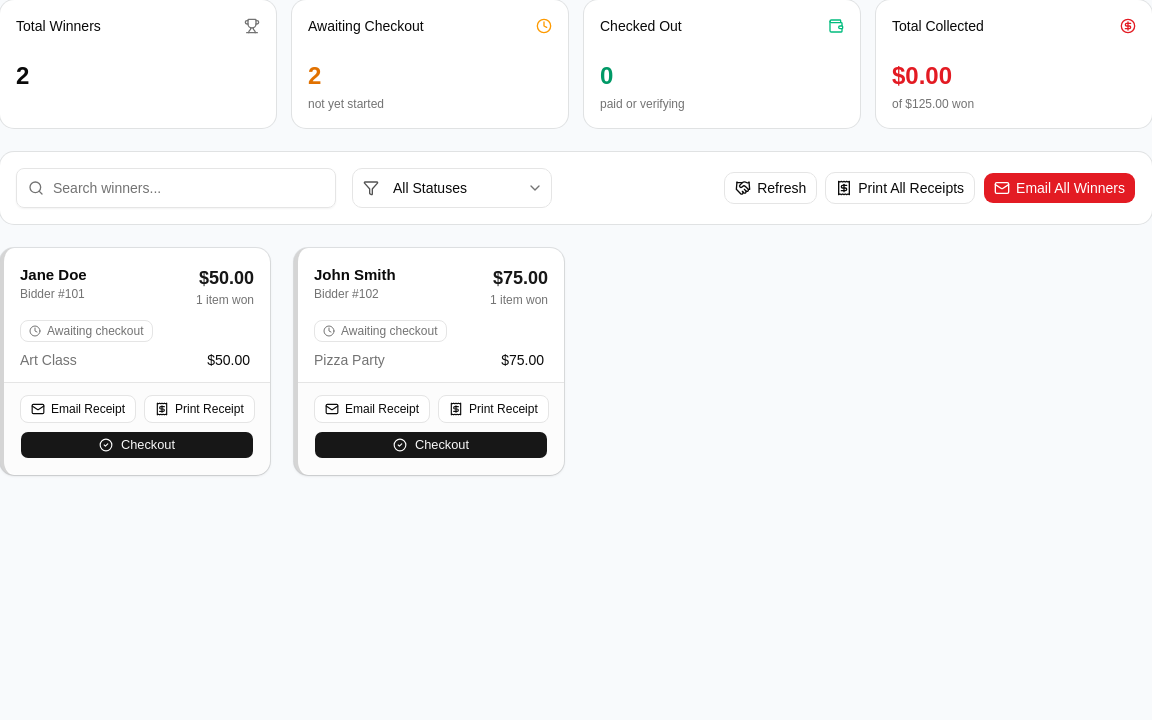
Test: Checkout › Mark paid / payment method dialog › shows Pending Verification (not Paid) when the server defers a credit-card checkout to the PayPal sweeper
Expected: the text "Jane Doe" is shown, [20, 264, 87, 286]
Click the button "Checkout" below "Art Class" at (137, 445), box [20, 431, 254, 459]
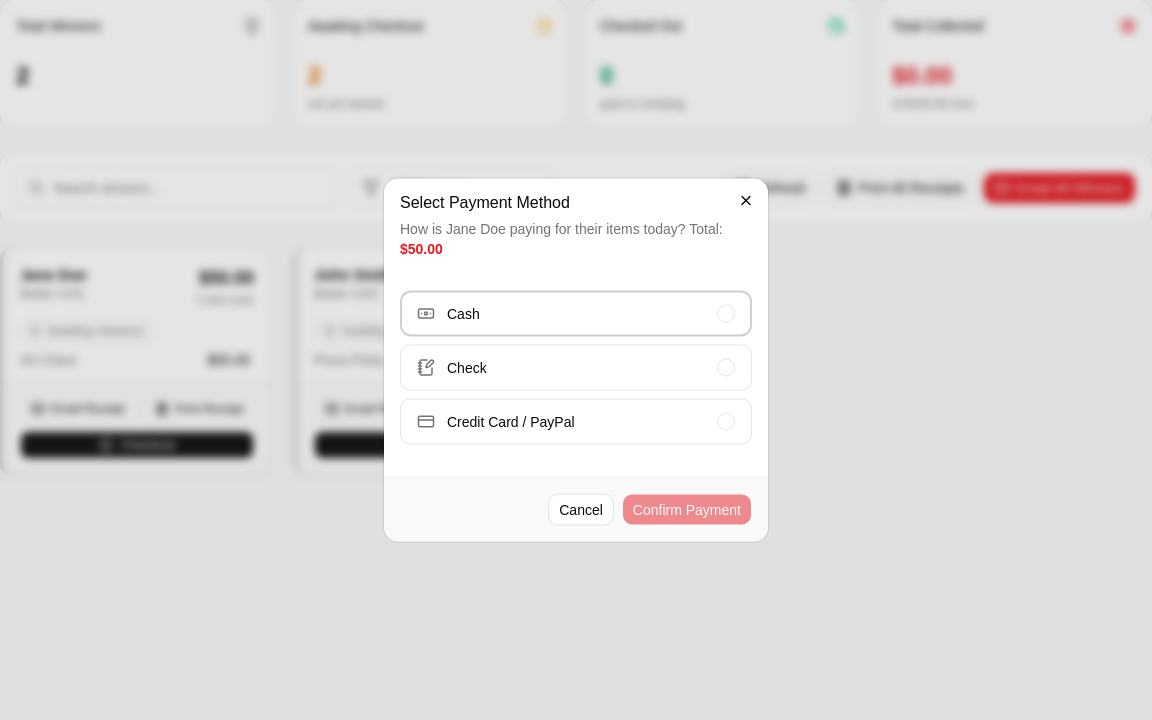
Expected: the heading "Select Payment Method" is shown, [400, 194, 570, 210]
Click the button "Credit Card / PayPal" at (576, 422), box [400, 398, 752, 444]
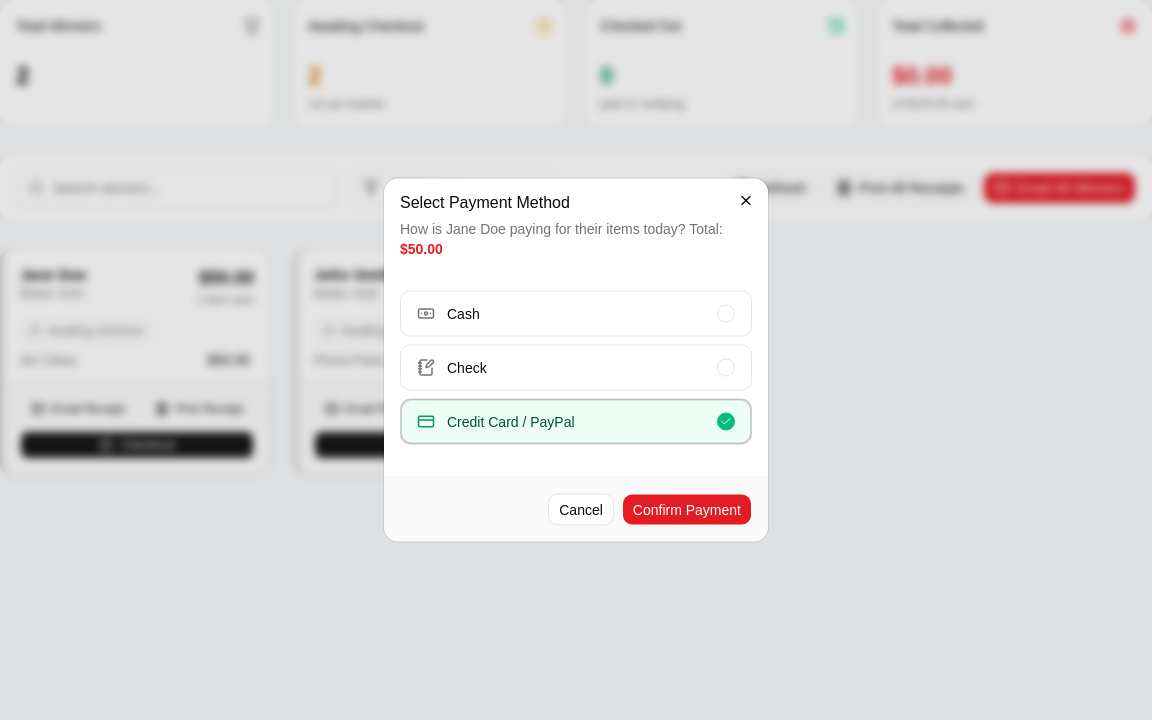
Click the button "Confirm Payment" at (687, 510), box [622, 494, 752, 526]
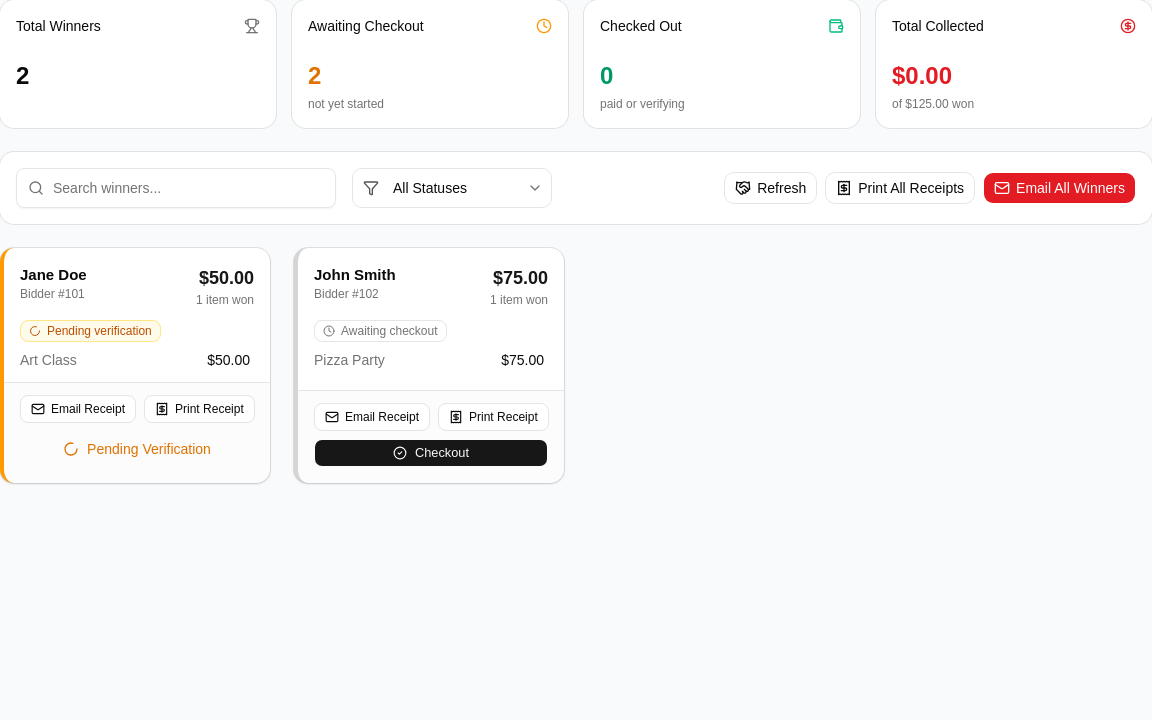
Expected: the text "Pending Verification" is shown, [63, 441, 211, 457]
